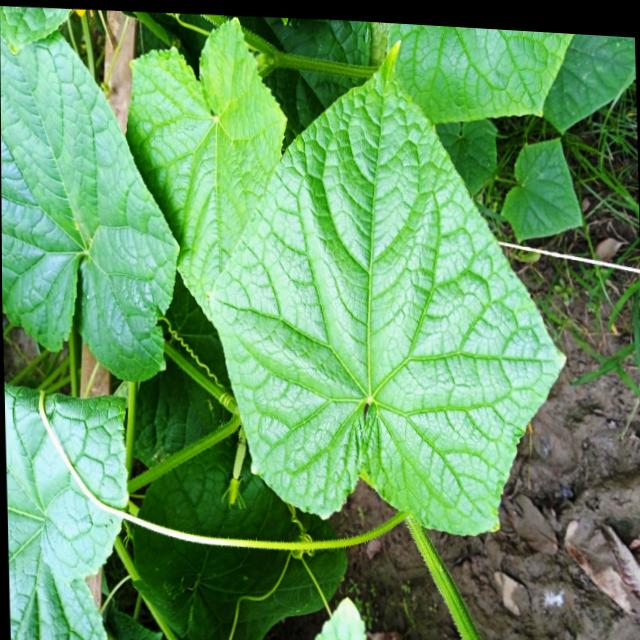Fresh-Leaf: (210, 34, 569, 537), (0, 23, 181, 383), (125, 15, 288, 330)
